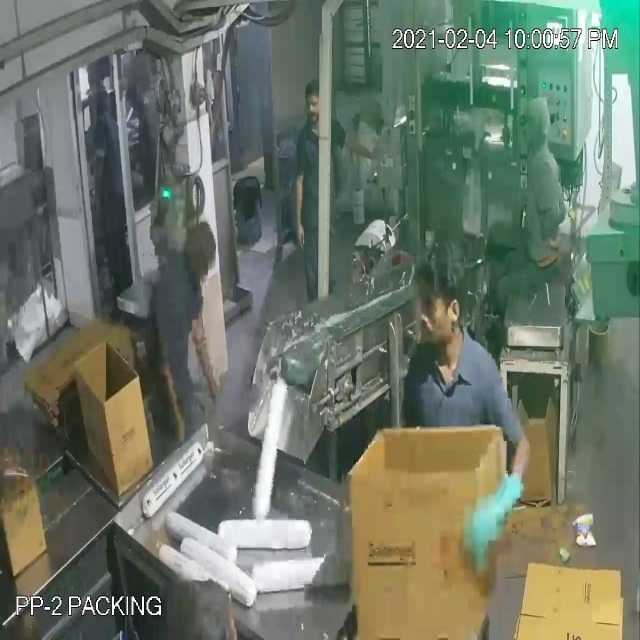Guantes: (450, 443, 543, 595)
Sin_guantes: (180, 292, 227, 411), (150, 335, 191, 440), (287, 159, 316, 257), (334, 121, 391, 164)
